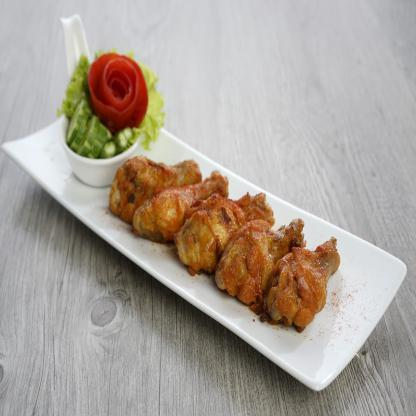ayam_goreng: (214, 221, 305, 304), (176, 192, 270, 272), (265, 236, 340, 330), (135, 172, 228, 241), (111, 159, 202, 217)
